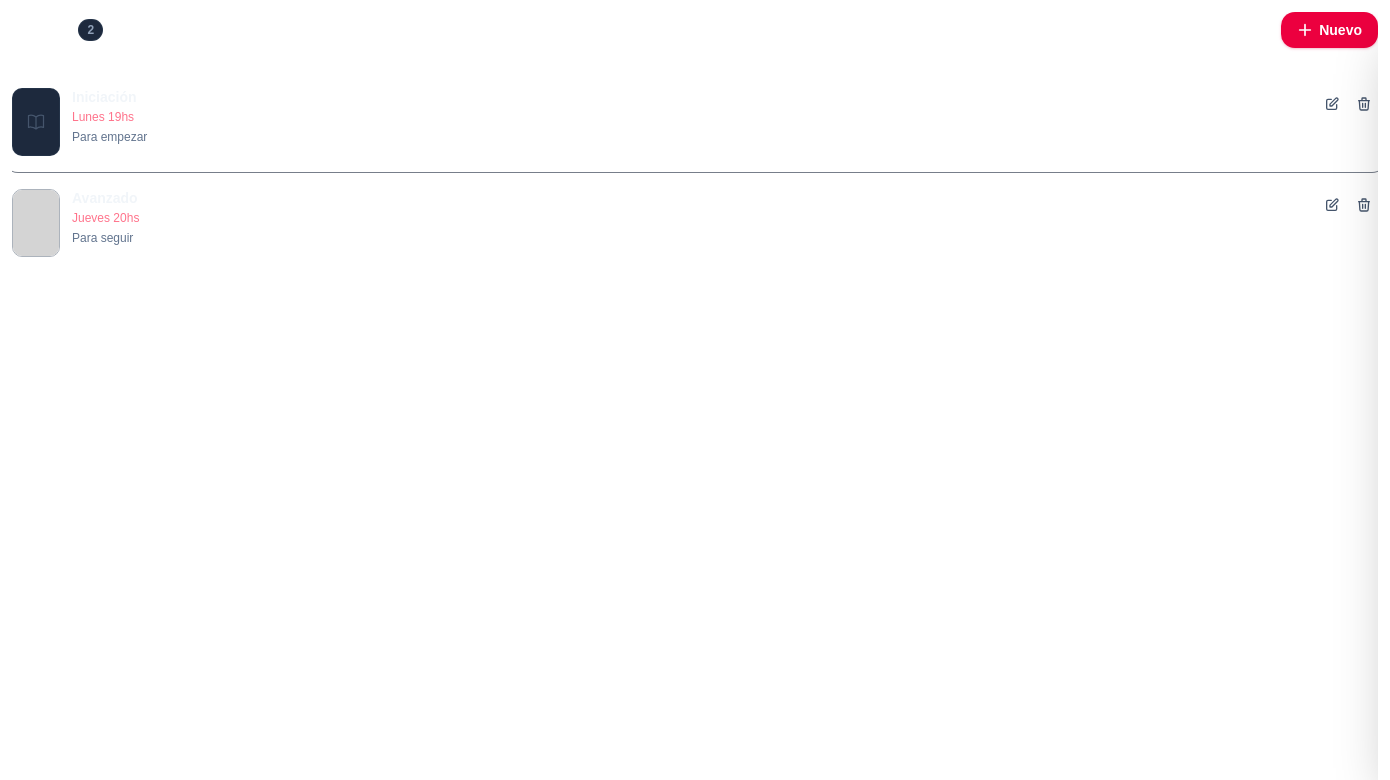
Test: ClassesPanel › does nothing when the deletion is cancelled
Step 1. Click the button titled "Eliminar" in the row of "Iniciación" → point(1364, 104), box [1350,90,1378,118]
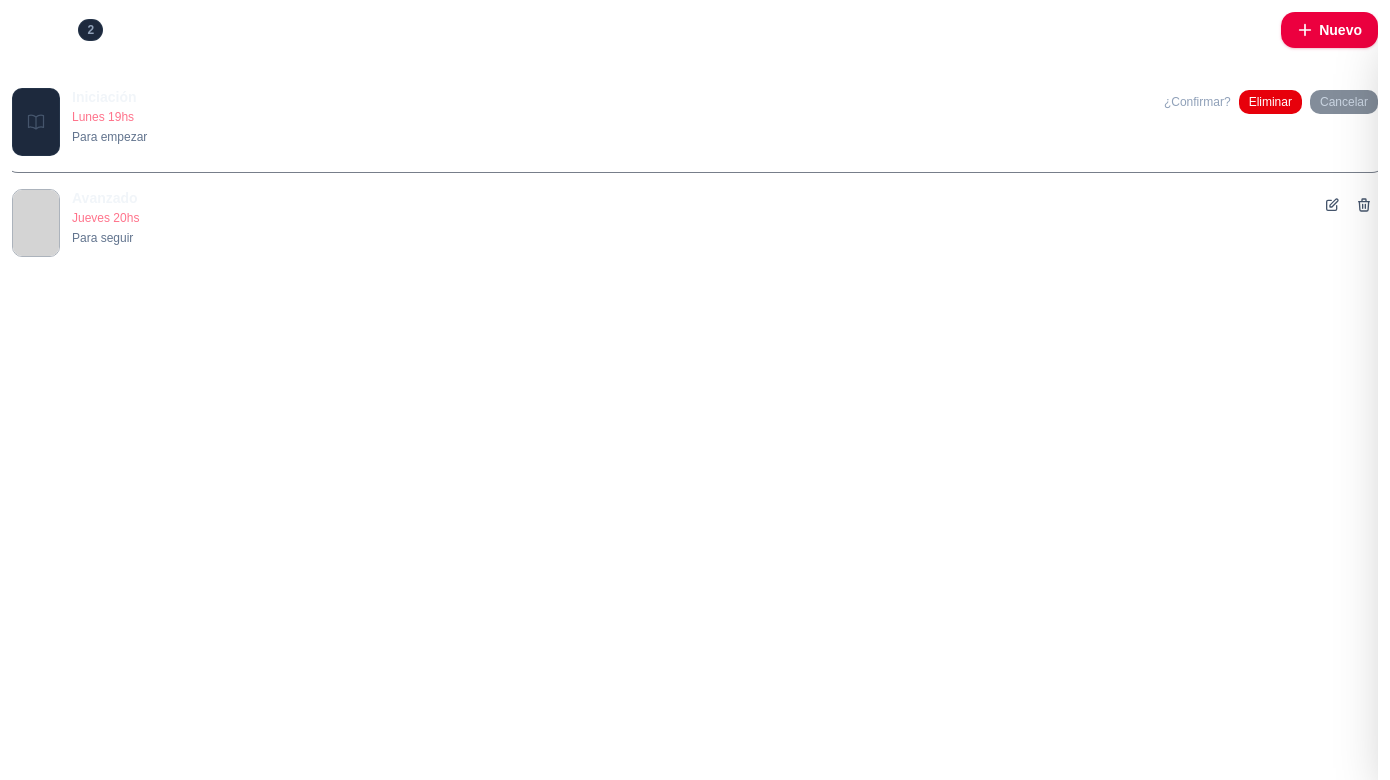
Step 2. Click the button "Cancelar" → point(1344, 102), box [1310,90,1378,114]
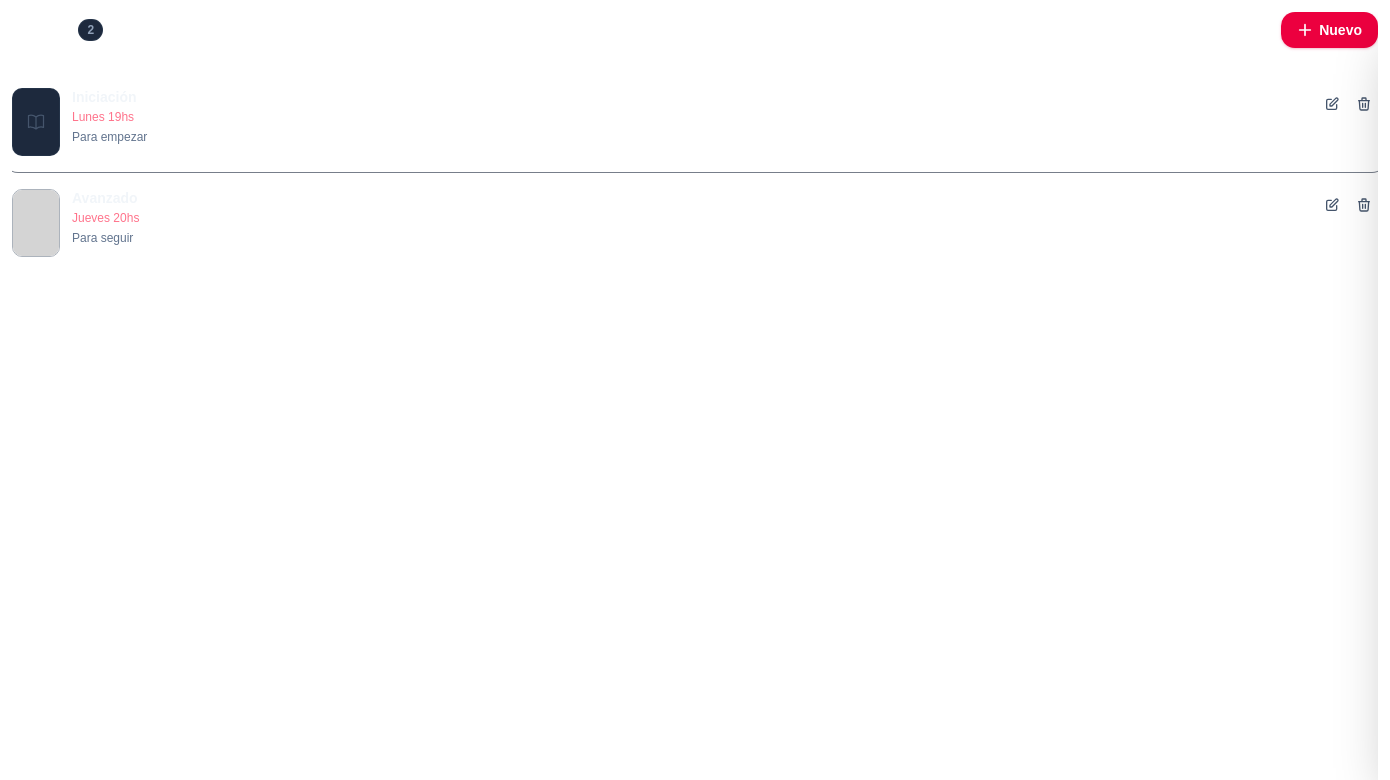
Now the number of buttons titled "Eliminar" is 2, box [1350,90,1378,118]; [1350,191,1378,219]
